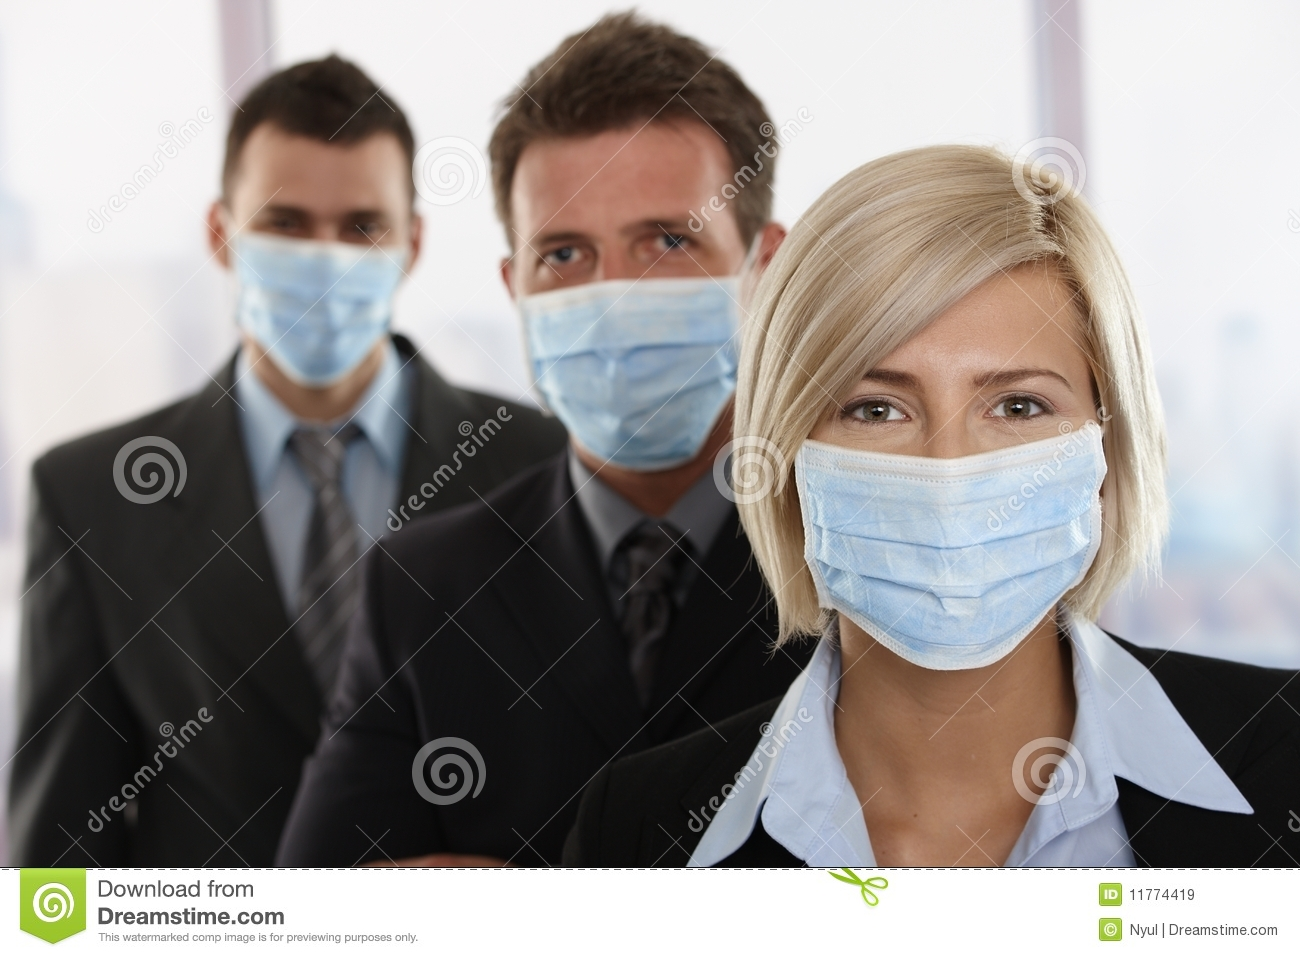mask: (793, 434, 1110, 677), (523, 273, 747, 478)
